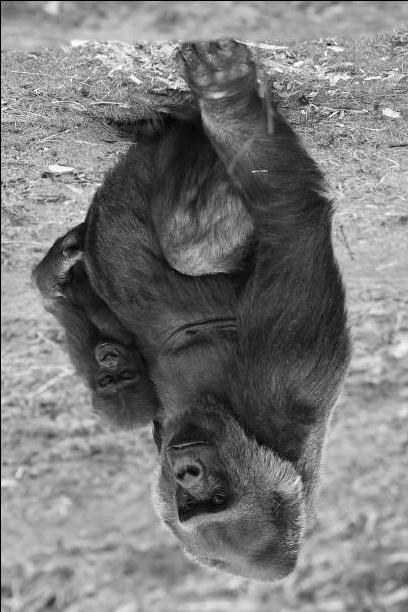gorille_Autres: (29, 10, 363, 598)
